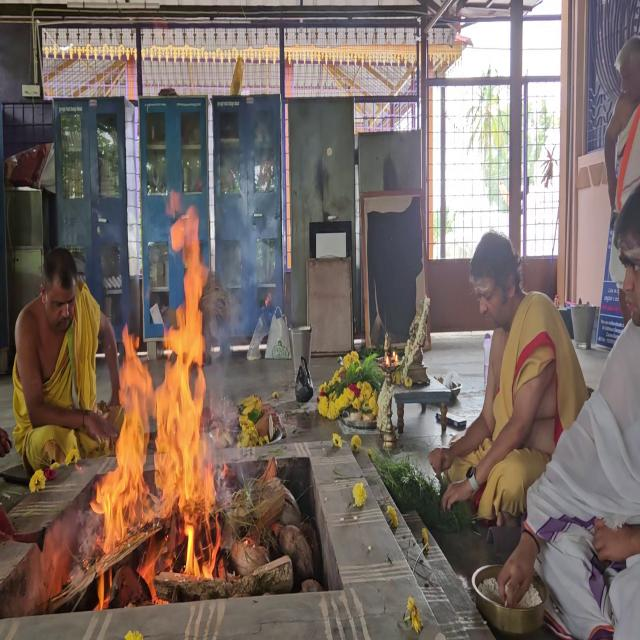fire: (82, 163, 230, 602)
